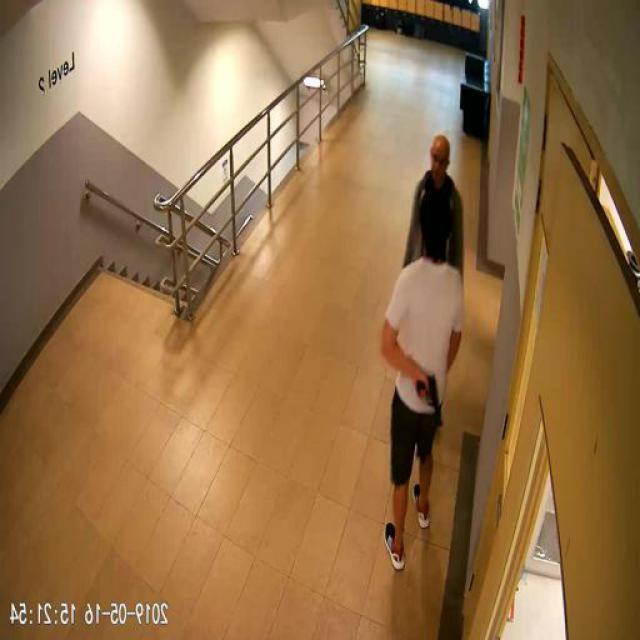weapon: (414, 375, 444, 422)
